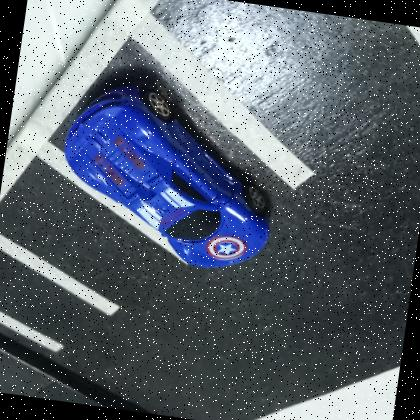Car: (46, 76, 290, 280)
